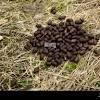Elk: (29, 24, 88, 60)
